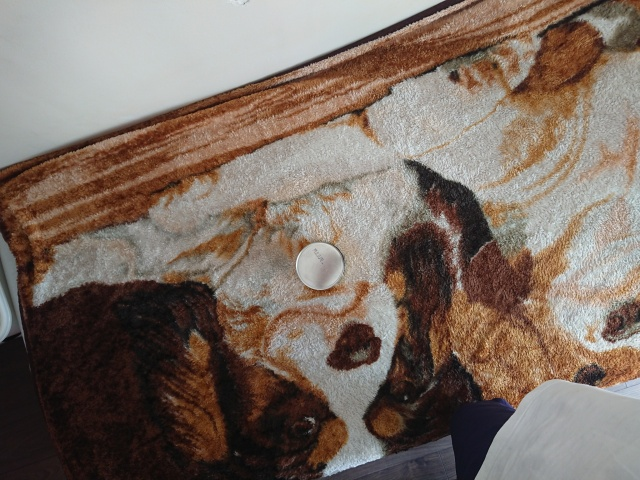Nescafe Classic 225g: (292, 239, 348, 294)
